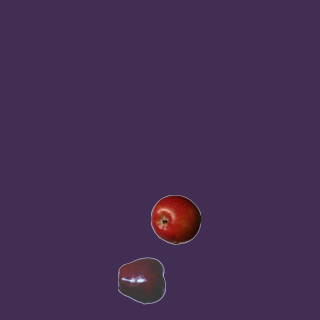Apple Braeburn: (150, 194, 200, 244)
Apple Red Delicious: (117, 255, 167, 305)
